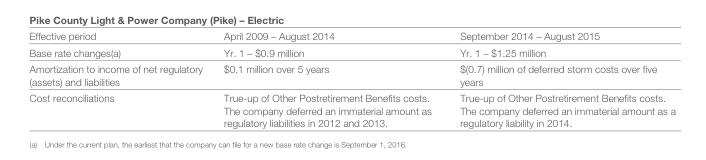table: (28, 29, 674, 128)
table column: (212, 29, 444, 128), (444, 29, 674, 128), (28, 29, 212, 128)
table column header: (28, 29, 674, 43)
table row: (28, 89, 674, 128), (28, 60, 674, 89), (28, 43, 674, 60), (28, 29, 674, 43)
